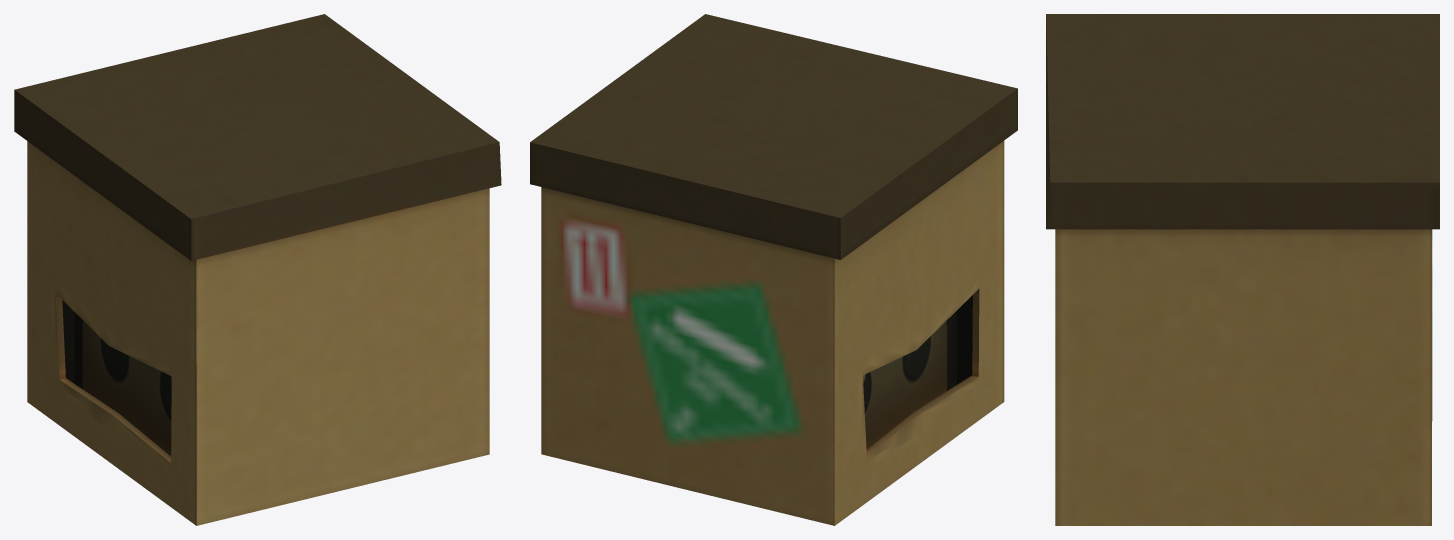
The model's file is shoebox_fbx.fbx.
3 renders of one model, left to right at view 1: azimuth 30°, elevation 25°; view 2: azimuth 150°, elevation 25°; view 3: azimuth 270°, elevation 25°, orthographic. The views are drawn at different scales.
Parts seen in each view (by area): view 1: showbox; view 2: showbox; view 3: showbox.
Boxes of the visible parts, bbox=[...] form: showbox: bbox=[14, 14, 501, 525]; showbox: bbox=[530, 14, 1017, 525]; showbox: bbox=[1046, 14, 1439, 525].
Size of the model in its own units: 23.06 by 22.17 by 22.77.
